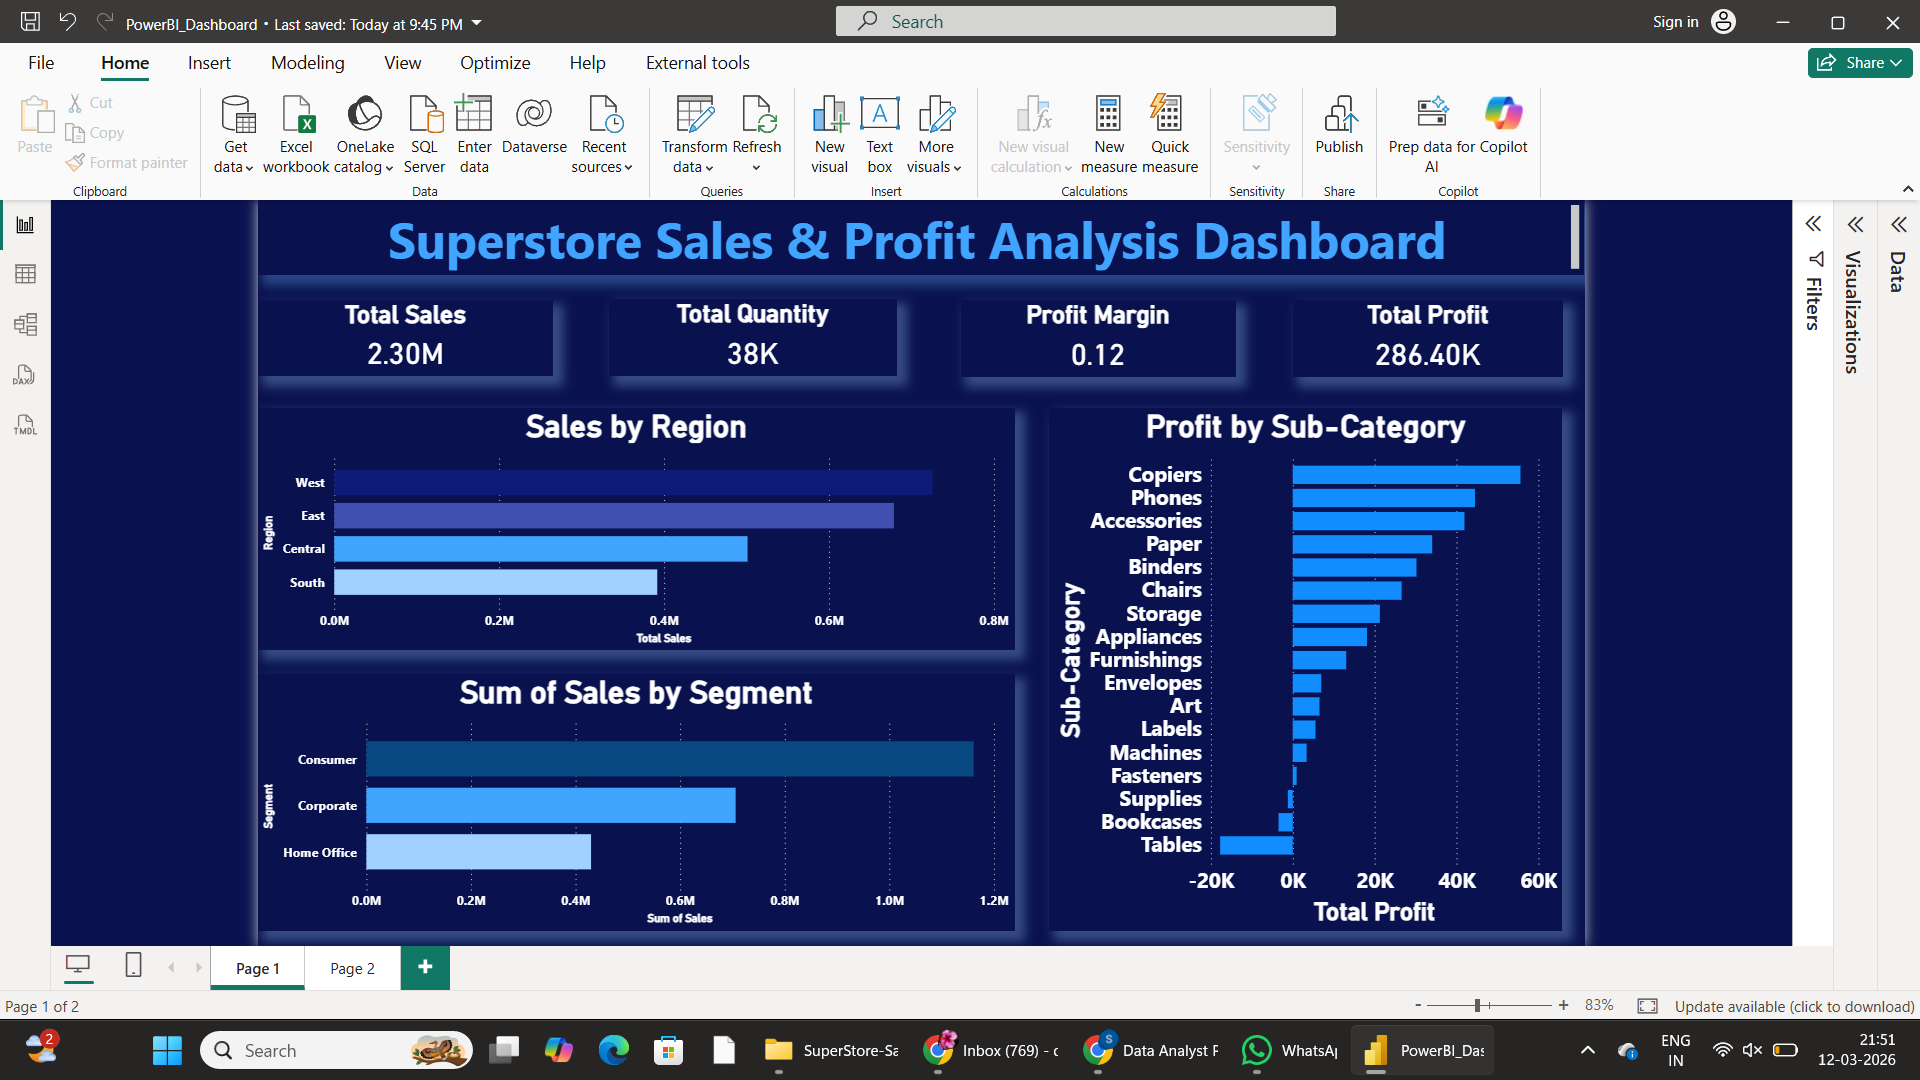

This screenshot's page, from the dashboard's own definition file:
{"tool":"powerbi","page":{"name":"Page 1","canvas":[1280,720],"ordinal":0},"visuals":[{"type":"clusteredBarChart","title":"Sales by Region","fields":{"Category":["raw_sales_data.Region"],"Y":["raw_sales_data.Total Sales"]},"box":[0,200.3,730.4,233.7],"z":0},{"type":"clusteredBarChart","title":" Profit by Sub-Category","fields":{"Category":["raw_sales_data.Sub-Category"],"Y":["raw_sales_data.Total Profit"]},"box":[763.8,200.3,495.3,505],"z":1000},{"type":"card","title":"Total Sales","fields":{"Values":["raw_sales_data.Total Sales"]},"box":[0,96.5,284.7,73.6],"z":2000},{"type":"card","title":"Total Profit","fields":{"Values":["raw_sales_data.Total Profit"]},"box":[998.9,96.5,260.6,74.8],"z":3000},{"type":"card","title":"Total Quantity","fields":{"Values":["raw_sales_data.Total Quantity"]},"box":[339,95.3,277.5,74.8],"z":4000},{"type":"card","title":"Profit Margin","fields":{"Values":["raw_sales_data.Profit Margin"]},"box":[678,96.5,265.4,74.8],"z":5000},{"type":"textbox","box":[0,0,1280.3,72.7],"z":6000},{"type":"clusteredBarChart","fields":{"Category":["raw_sales_data.Segment"],"Y":["Sum(raw_sales_data.Sales)"]},"box":[0,457.7,730.4,247.7],"z":7001}]}

Visuals, with their boxes on the page's 1280x720 design canvas (x1, y1, x2, y2). These are canvas units, not pixel positions in the 1920x1080 screenshot, which may show the page scaled, cropped or inside an application window:
"Sales by Region" clusteredBarChart: [x1=0, y1=200, x2=730, y2=434]
" Profit by Sub-Category" clusteredBarChart: [x1=764, y1=200, x2=1259, y2=705]
"Total Sales" card: [x1=0, y1=96, x2=285, y2=170]
"Total Profit" card: [x1=999, y1=96, x2=1260, y2=171]
"Total Quantity" card: [x1=339, y1=95, x2=616, y2=170]
"Profit Margin" card: [x1=678, y1=96, x2=943, y2=171]
textbox: [x1=0, y1=0, x2=1280, y2=73]
clusteredBarChart - raw_sales_data.Segment x Sum(raw_sales_data.Sales): [x1=0, y1=458, x2=730, y2=705]
